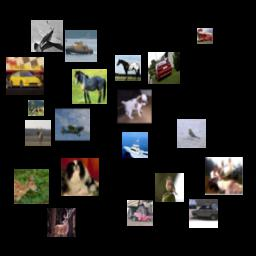airplane: (55, 107, 90, 142), (31, 20, 63, 52)
automobile: (6, 57, 44, 95), (148, 52, 180, 84), (189, 199, 218, 228)
bird: (155, 173, 184, 202), (177, 119, 206, 148)
deer: (205, 157, 243, 195), (14, 169, 49, 204), (47, 208, 76, 237), (25, 120, 51, 146), (28, 100, 44, 116)
dog: (61, 158, 99, 196), (117, 89, 152, 124)
ship: (65, 30, 97, 62), (122, 132, 148, 158)
truck: (127, 200, 153, 226), (197, 28, 213, 44)
